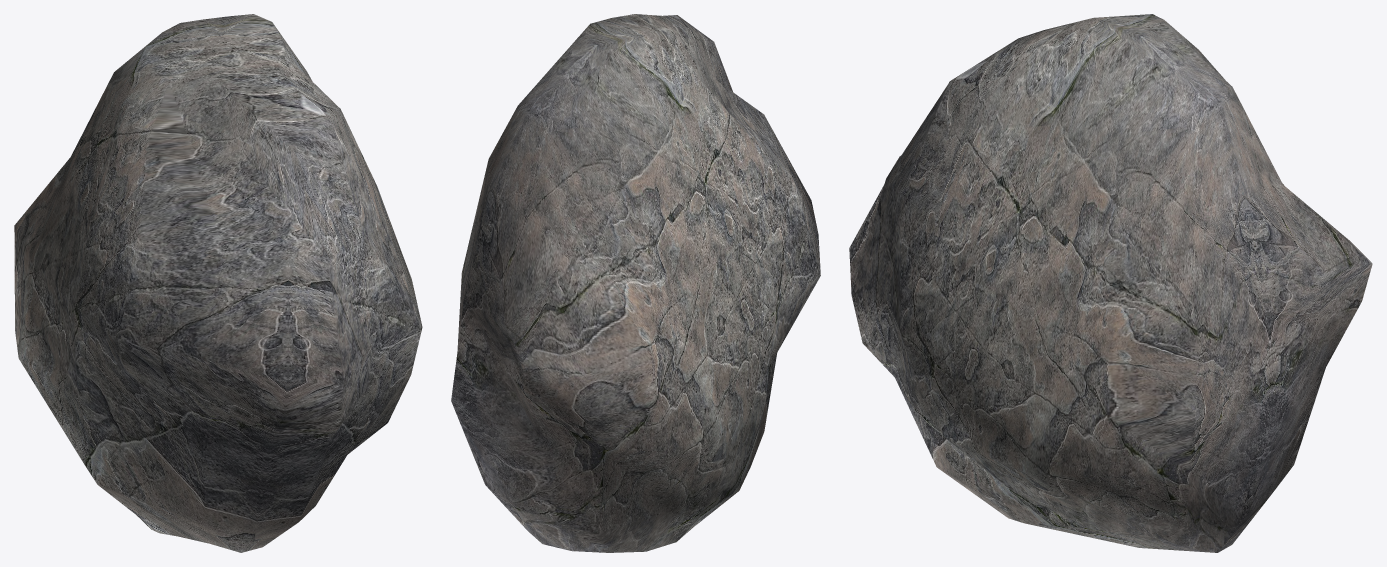
The model's file is rock012.FBX.
3 renders of one model, left to right at view 1: azimuth 30°, elevation 25°; view 2: azimuth 150°, elevation 25°; view 3: azimuth 270°, elevation 25°, orthographic. The views are drawn at different scales.
Visible parts, largest first — view 1: rock012; view 2: rock012; view 3: rock012.
Part boxes in pixels (<box>): rock012: <box>14,14,422,552</box>; rock012: <box>451,14,820,552</box>; rock012: <box>849,14,1372,552</box>.
Bounding box in the file's own units: 1827 × 2952 × 2663.
1 material, 1 textured.
